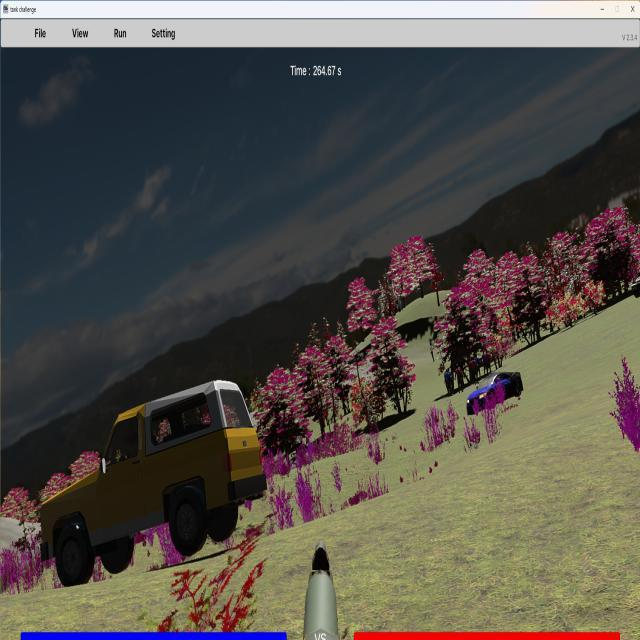car: (35, 379, 266, 585), (466, 370, 523, 416)
